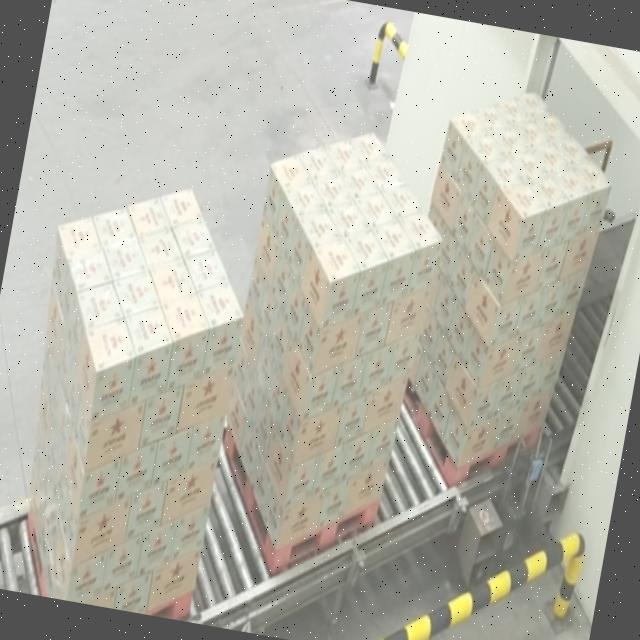pallet: (199, 113, 456, 622), (0, 172, 268, 622), (383, 68, 627, 515)
